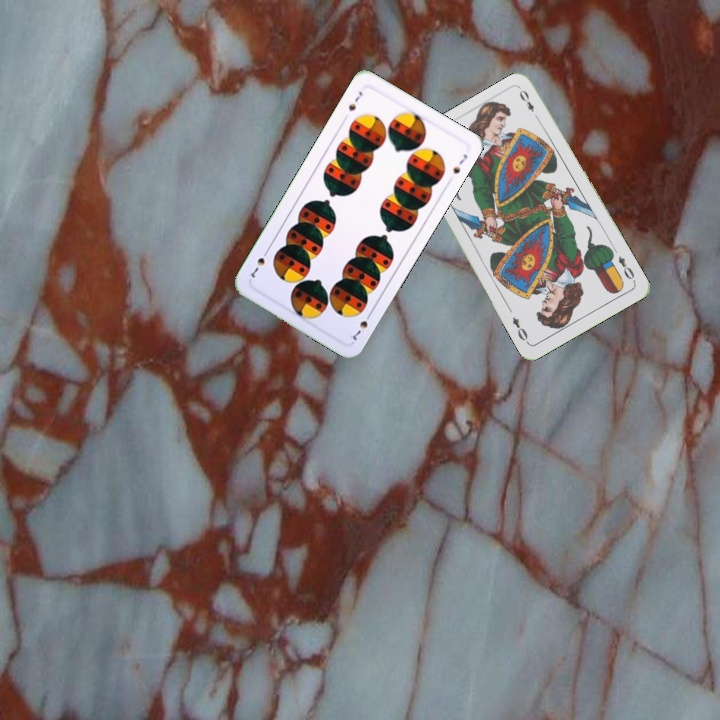EO: (614, 252, 638, 285)
S7: (346, 308, 375, 343), (344, 87, 365, 113)
